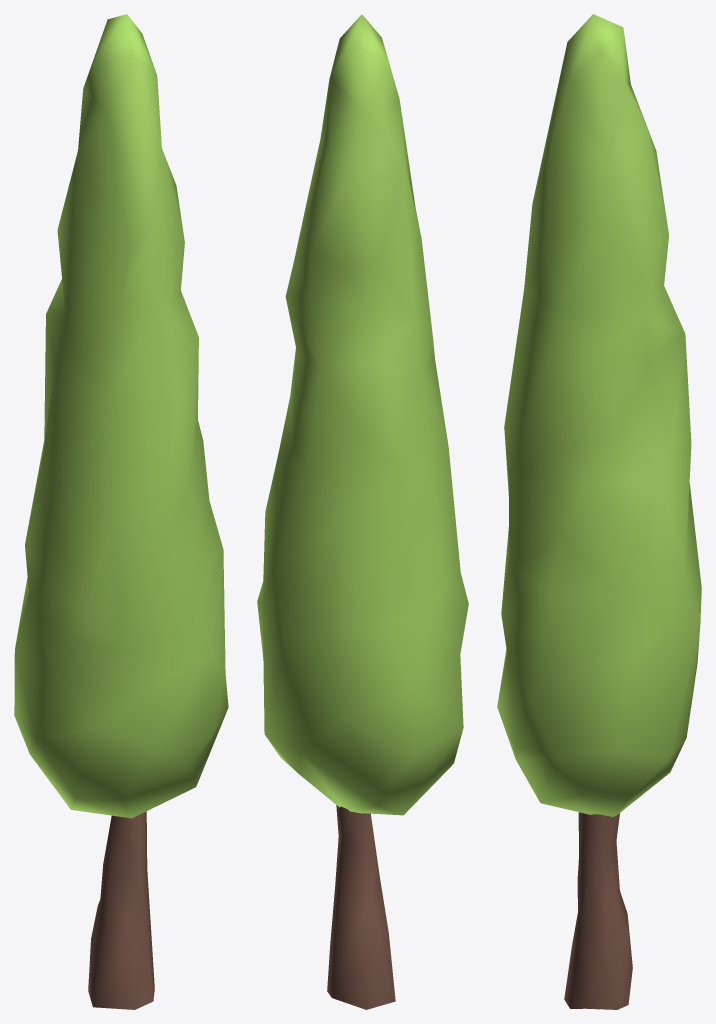
Rendered from pine_c.FBX.
The picture shows the model from 3 angles, left to right: view 1: azimuth 30°, elevation 25°; view 2: azimuth 150°, elevation 25°; view 3: azimuth 270°, elevation 25°; orthographic projection.
Parts seen in each view (by area): view 1: pine_c_LOD0; view 2: pine_c_LOD0; view 3: pine_c_LOD0.
Boxes of the visible parts, left/top/right/bottom form: pine_c_LOD0: left=14, top=14, right=228, bottom=1009; pine_c_LOD0: left=257, top=14, right=468, bottom=1009; pine_c_LOD0: left=497, top=14, right=701, bottom=1009.
Size of what is drawn, in the model's own units: 338 by 1727 by 323.
